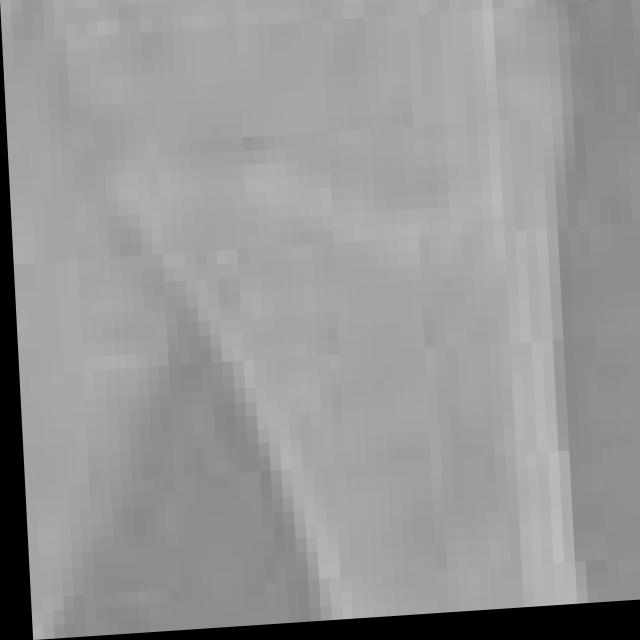fracture: (5, 0, 640, 635)
